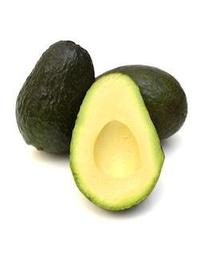avocado: (68, 72, 165, 211), (15, 40, 96, 155), (90, 65, 187, 142)
